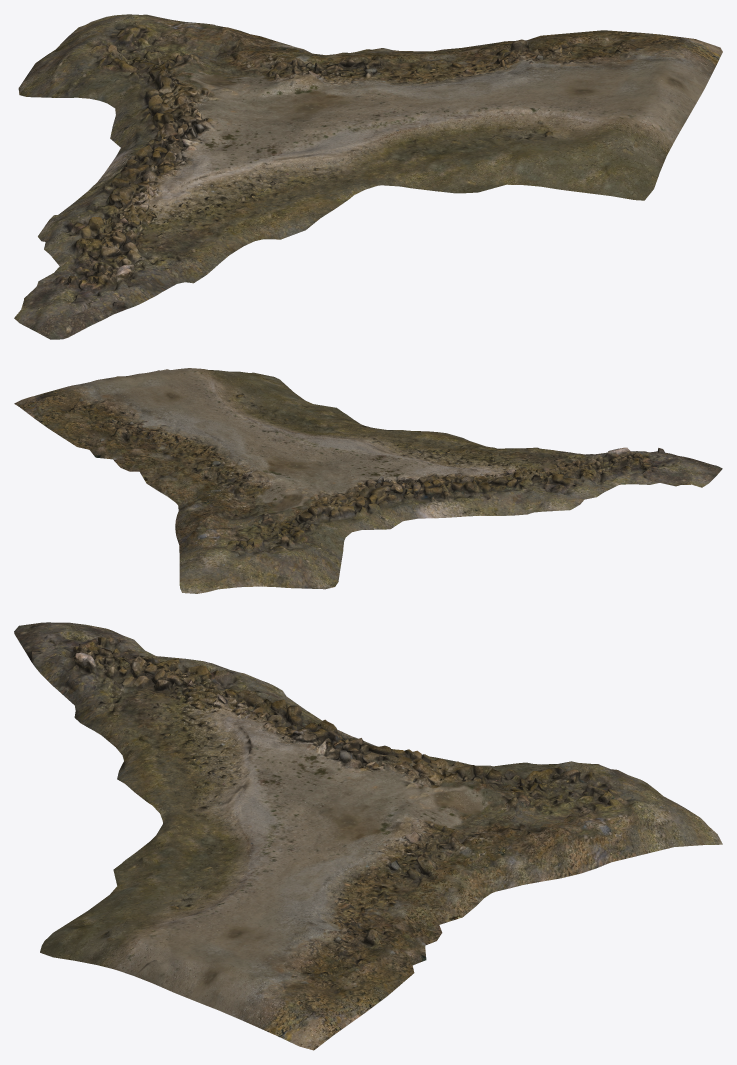
File: ph_coast_rocks_01.glb
The picture shows the model from 3 angles, top to bottom: view 1: azimuth 30°, elevation 25°; view 2: azimuth 150°, elevation 25°; view 3: azimuth 270°, elevation 25°; orthographic projection. The views are drawn at different scales.
Bounding box in the file's own units: 59.49 × 3.25 × 42.51.
1 material, 1 textured.
